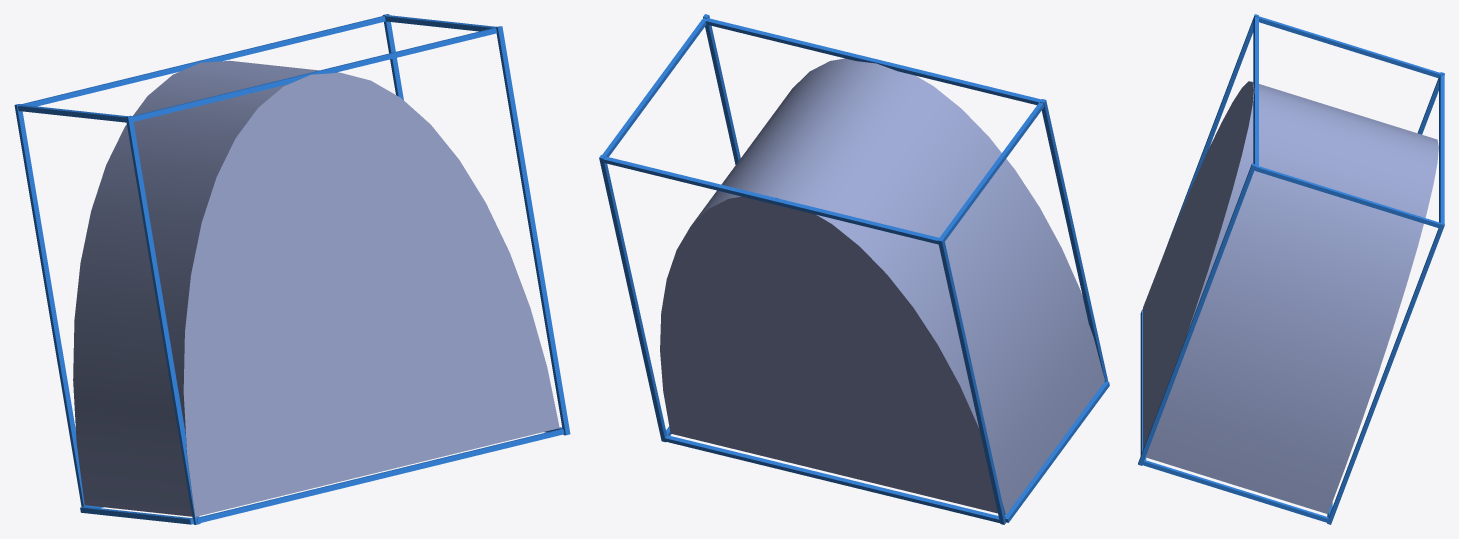
File: chest_in_box.fbx
3 renders of one model, left to right at view 1: azimuth 30°, elevation 25°; view 2: azimuth 150°, elevation 25°; view 3: azimuth 270°, elevation 25°, orthographic. The views are drawn at different scales.
Visible parts, largest first — view 1: chest, box; view 2: chest, box; view 3: chest, box.
Part boxes in pixels (x1,y1,x2,y2): chest: [73, 60, 559, 516]; box: [14, 14, 570, 524]; chest: [660, 58, 1104, 515]; box: [599, 14, 1109, 524]; chest: [1143, 81, 1438, 514]; box: [1138, 14, 1444, 524].
Size of the model in its own units: 1.05 by 1.15 by 0.8881.
